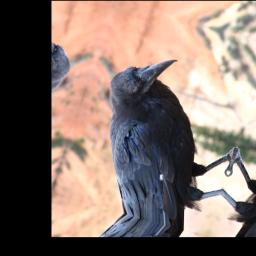Crow: (69, 43, 256, 236)
